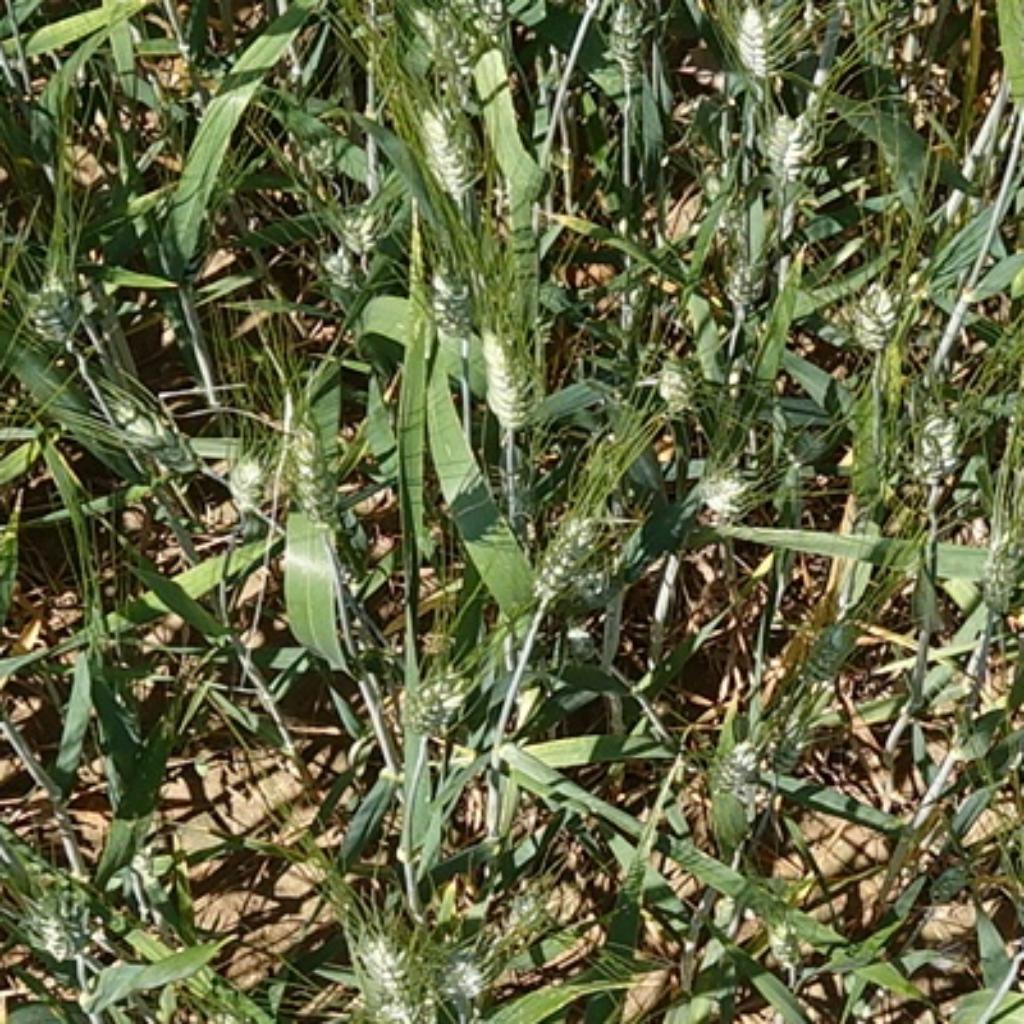0-0: (335, 901, 478, 1024), (296, 171, 394, 312), (12, 842, 125, 962), (519, 499, 634, 616), (476, 852, 593, 962), (399, 56, 491, 194), (814, 256, 926, 355), (102, 389, 202, 488), (463, 304, 545, 424), (691, 704, 768, 829), (15, 250, 110, 348), (404, 240, 476, 353), (384, 647, 473, 737), (586, 2, 673, 94), (747, 94, 824, 192), (284, 411, 346, 530), (711, 209, 783, 307), (911, 385, 971, 496), (714, 2, 791, 79), (798, 606, 867, 686), (686, 445, 757, 517), (645, 340, 704, 412), (973, 528, 1024, 609), (217, 440, 268, 517), (762, 721, 814, 791), (763, 909, 806, 977)
